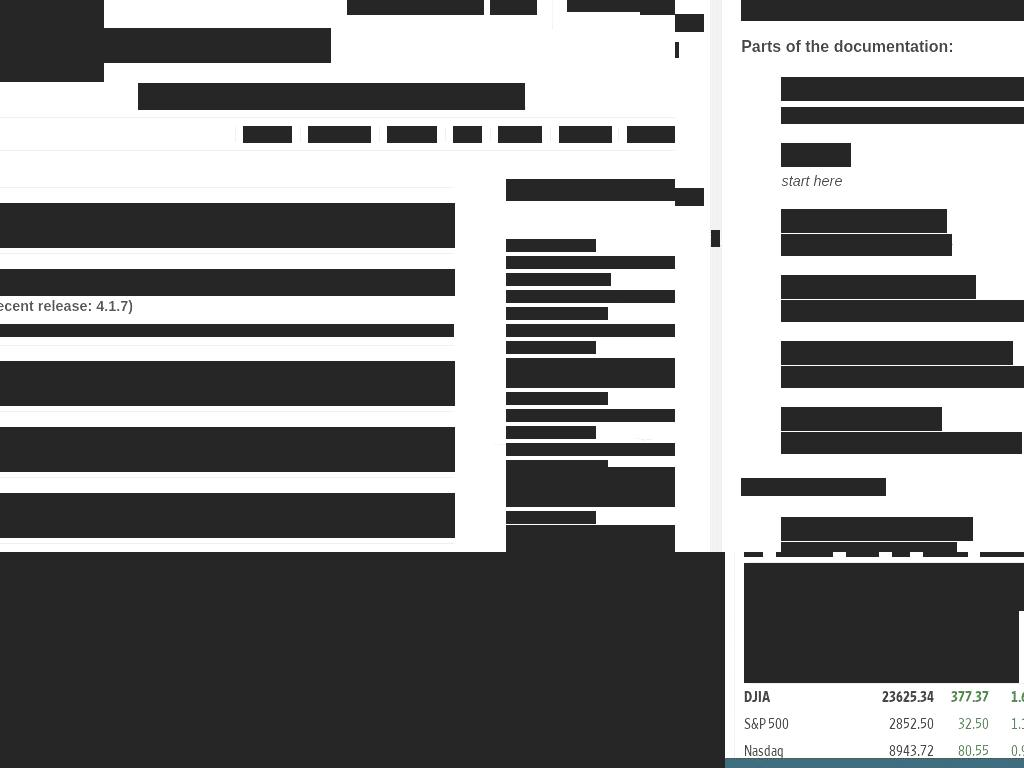button: (0, 642, 618, 768), (0, 269, 455, 318), (0, 203, 455, 248), (0, 361, 455, 406), (0, 427, 455, 472), (0, 493, 455, 538), (595, 617, 675, 737), (308, 126, 371, 143), (559, 126, 612, 143), (387, 126, 437, 143), (243, 126, 292, 143), (627, 126, 675, 143), (498, 126, 542, 143), (453, 126, 482, 143)
field: (347, 0, 484, 15), (490, 0, 537, 15)
heading: (0, 203, 455, 226), (0, 269, 455, 292), (0, 361, 455, 384), (0, 427, 455, 450), (0, 493, 455, 516), (506, 525, 675, 552), (506, 179, 675, 201), (506, 467, 675, 489), (461, 612, 519, 642)
iframe: (126, 552, 675, 623)
image: (0, 552, 675, 768), (0, 642, 618, 768), (744, 563, 1019, 683), (0, 0, 104, 82)
link: (138, 83, 525, 110), (0, 296, 455, 318), (0, 230, 455, 248), (0, 388, 455, 406), (0, 454, 455, 472), (0, 520, 455, 538), (781, 77, 1024, 101), (781, 341, 1013, 365), (506, 358, 675, 388), (506, 477, 675, 507), (781, 275, 976, 299), (781, 517, 973, 541), (781, 209, 947, 233), (781, 407, 942, 431), (798, 107, 976, 124), (277, 324, 451, 337), (506, 256, 675, 269), (506, 290, 675, 303), (506, 324, 675, 337), (506, 409, 675, 422), (506, 443, 675, 456), (506, 528, 675, 541), (781, 143, 851, 167), (145, 324, 270, 337)
text: (265, 709, 675, 739), (104, 28, 331, 63), (741, 0, 1024, 21), (781, 300, 1024, 322), (781, 366, 1024, 388), (781, 432, 1022, 454), (741, 38, 955, 56), (355, 754, 625, 768), (781, 234, 952, 256), (615, 650, 675, 704), (741, 478, 886, 496), (744, 690, 864, 706), (744, 717, 864, 733), (744, 744, 864, 760), (0, 324, 146, 337), (781, 542, 957, 552), (506, 273, 611, 286), (781, 168, 843, 190), (506, 307, 608, 320), (506, 392, 608, 405), (506, 460, 608, 473), (506, 239, 596, 252), (506, 341, 596, 354), (506, 426, 596, 439), (506, 511, 596, 524), (864, 690, 934, 706), (864, 717, 934, 733), (864, 744, 934, 760), (934, 690, 989, 706), (934, 717, 989, 733), (934, 744, 989, 760), (567, 0, 640, 12), (975, 107, 1024, 124), (506, 545, 596, 552), (989, 690, 1024, 706), (989, 717, 1024, 733), (989, 744, 1024, 760), (781, 107, 799, 124), (776, 552, 833, 557), (923, 552, 968, 557), (980, 552, 1024, 557), (846, 552, 879, 557), (711, 230, 720, 247), (268, 324, 278, 337), (1019, 563, 1024, 587), (1019, 587, 1024, 611), (1019, 611, 1024, 635), (1019, 635, 1024, 659), (1019, 659, 1024, 683), (744, 552, 763, 557), (892, 552, 910, 557), (450, 324, 454, 337)
